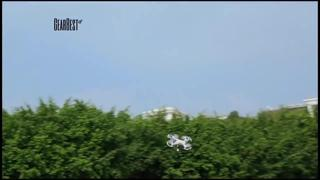UAV: (167, 134, 192, 151)
